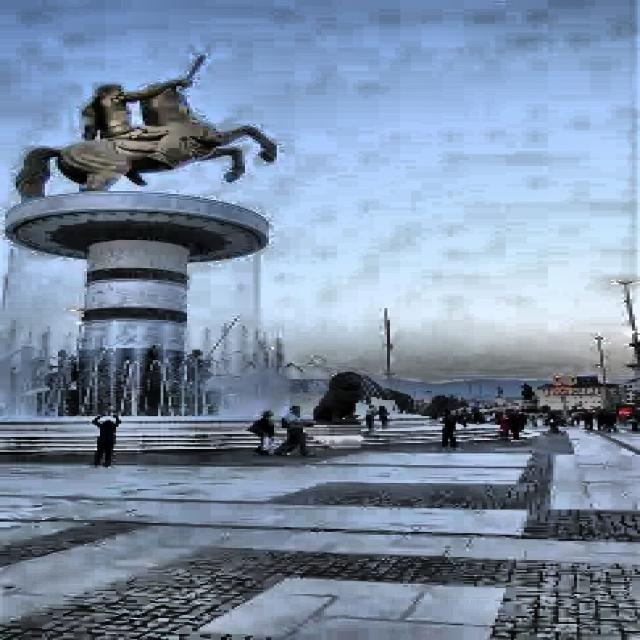alexander the great monument: (0, 52, 277, 444)
